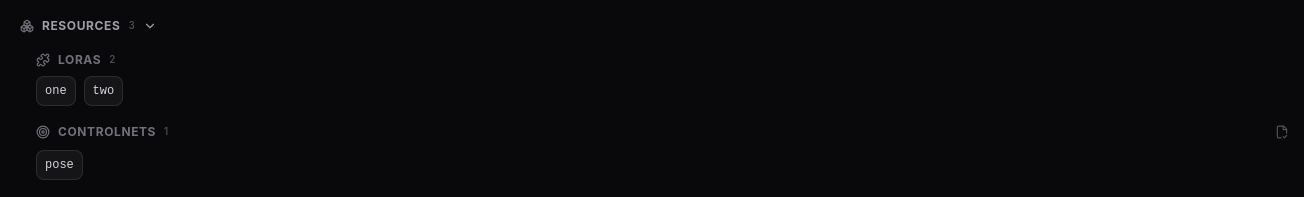
Test: ResourcesSection › groups only populated resources under one disclosure with aggregate and subgroup counts
Expected: the heading "LoRAs 2" is shown, [36,52,116,68]
Expected: the heading "ControlNets 1" is shown, [36,124,169,140]
Click the button "Resources 3". click: (81, 26)
box: [12,12,1292,40]
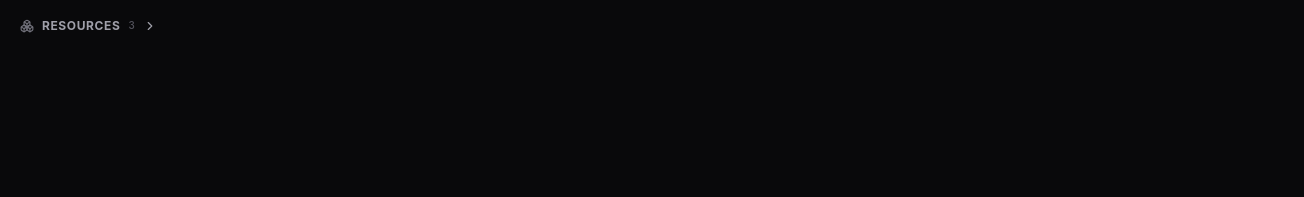
Expected: the button "Resources 3" is collapsed, [12,12,1292,40]
Expected: the button "one" is gone
